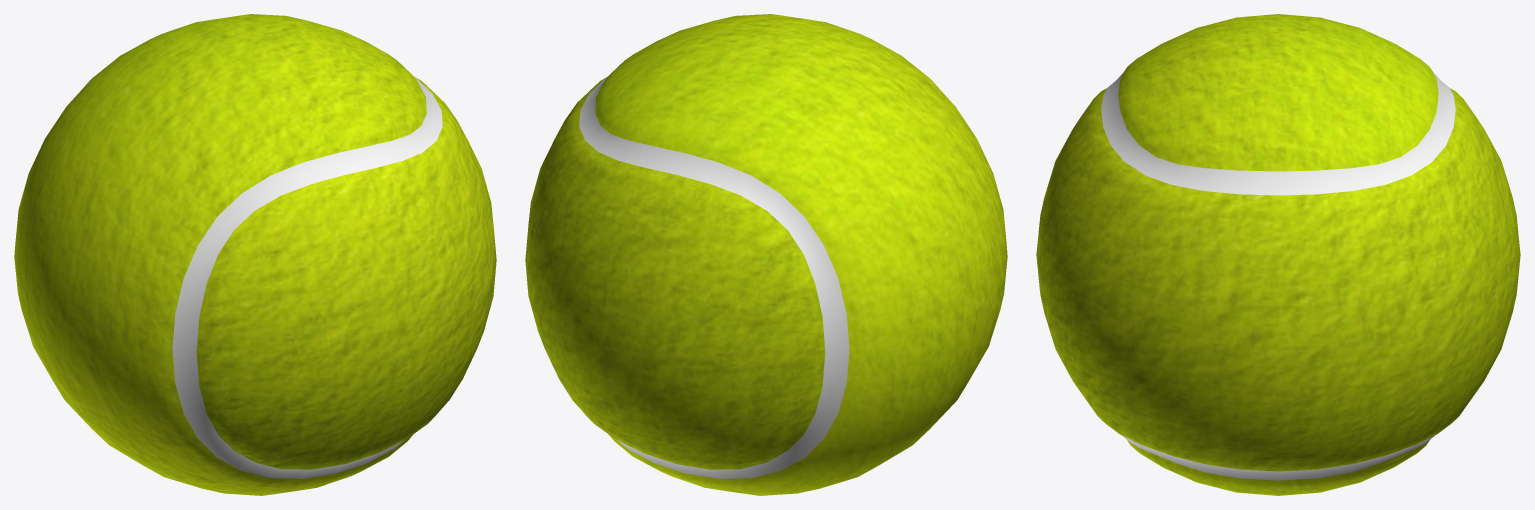
Rendered from tennisBall.fbx.
3 views of the same model, side by side, from view 1: azimuth 30°, elevation 25°; view 2: azimuth 150°, elevation 25°; view 3: azimuth 270°, elevation 25° (orthographic).
Visible parts, largest first — view 1: Roundcube; view 2: Roundcube; view 3: Roundcube.
Part boxes in pixels (x1,y1,x2,y2): Roundcube: (14, 14, 496, 495); Roundcube: (525, 14, 1007, 495); Roundcube: (1036, 14, 1520, 495).
Size of the model in its own units: 192 by 192 by 192.
